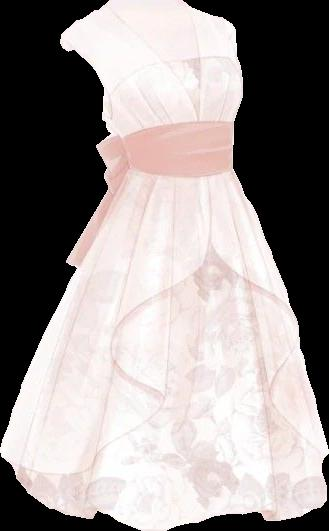Bodice: (60, 0, 242, 180)
Hemline: (0, 177, 214, 477), (209, 237, 328, 456), (12, 467, 323, 530)
Neckline: (108, 0, 203, 126), (104, 52, 235, 101), (115, 119, 233, 143)
Skirt: (0, 168, 328, 530)
Waistline: (129, 163, 236, 182)
